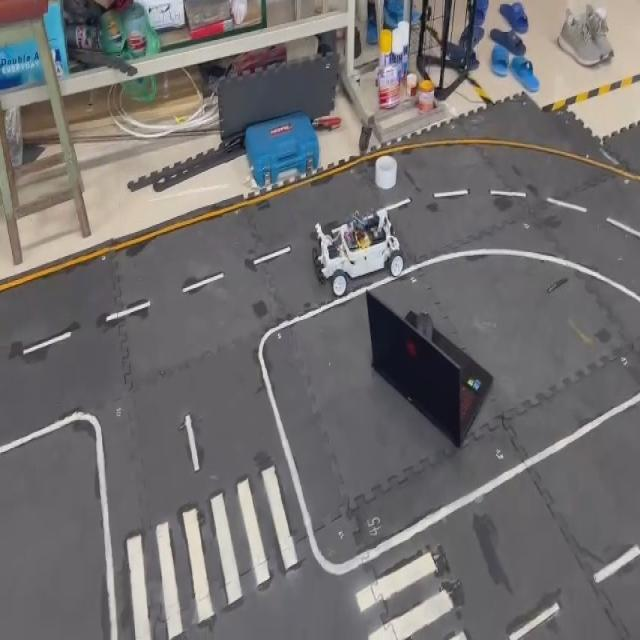SiCo-CAR: (311, 203, 405, 297)
